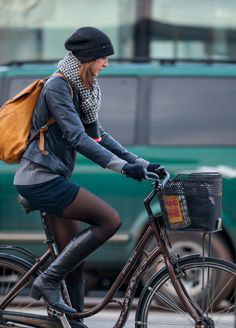bikerider: (1, 26, 236, 324)
